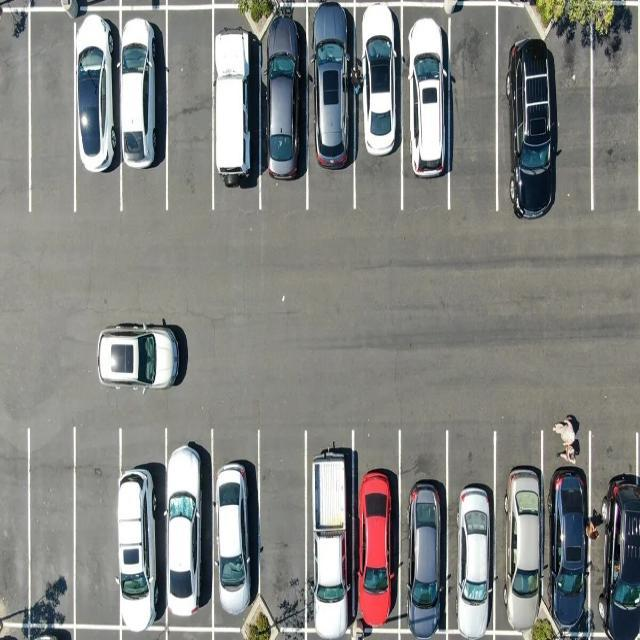Car: (502, 0, 592, 222), (493, 438, 545, 640), (592, 436, 640, 640), (406, 2, 450, 222), (262, 6, 310, 206), (355, 5, 400, 215), (81, 318, 199, 398), (544, 439, 591, 639), (405, 437, 451, 640), (171, 432, 215, 637), (309, 437, 353, 637), (216, 5, 258, 208), (314, 2, 354, 210), (78, 7, 119, 205), (125, 428, 164, 636), (124, 9, 164, 207), (220, 434, 259, 636), (359, 436, 398, 634), (455, 441, 491, 640)
Free: (452, 2, 499, 212), (261, 437, 307, 640), (168, 8, 212, 208), (33, 8, 76, 210), (33, 422, 75, 624), (596, 3, 636, 213), (78, 419, 118, 629), (2, 422, 32, 627), (2, 10, 32, 210)
